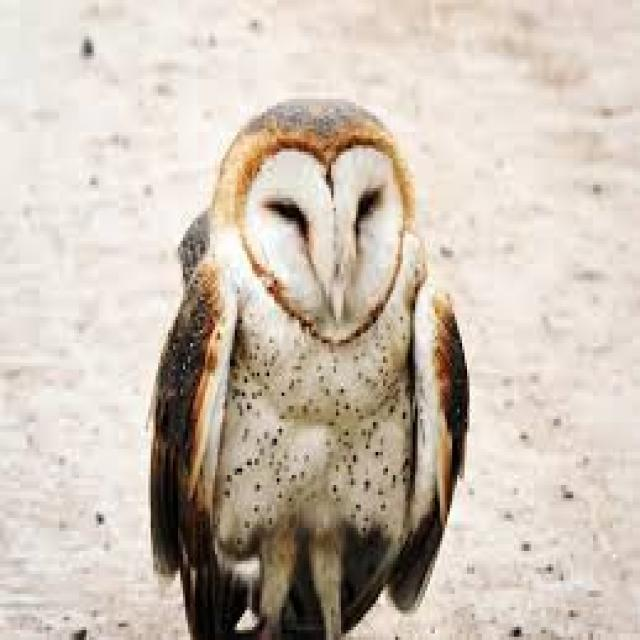Owl: (146, 86, 474, 634)
